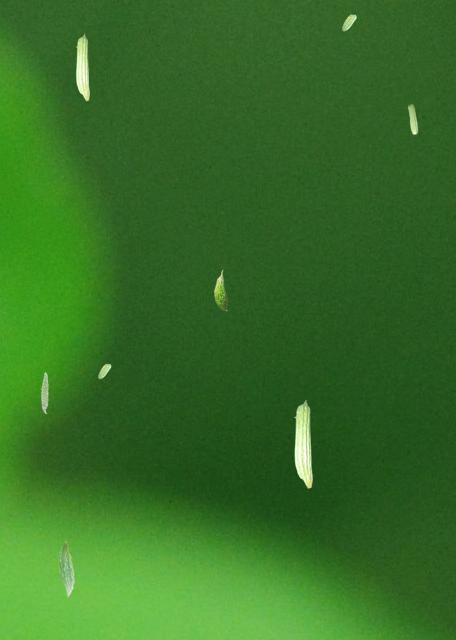ampalaya: (294, 399, 312, 488), (75, 33, 90, 101), (58, 540, 74, 597), (213, 269, 228, 311), (40, 371, 48, 414), (407, 103, 418, 134), (341, 14, 356, 31), (97, 363, 111, 379)
